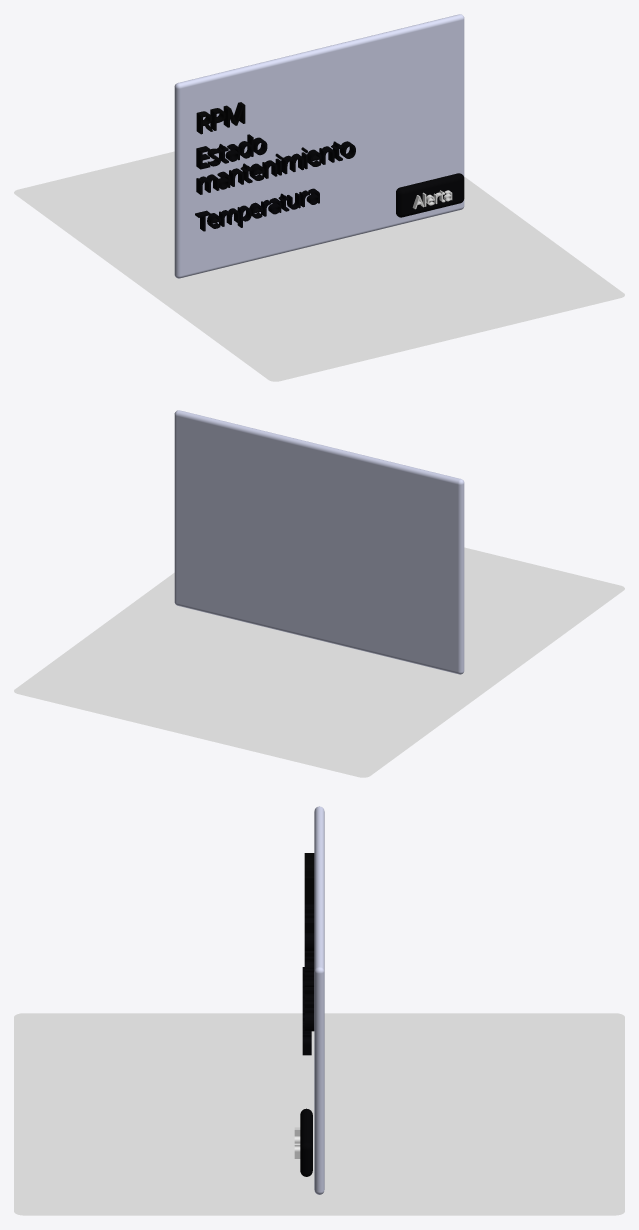
Rendered from Project_Name.glb.
The picture shows the model from 3 angles, top to bottom: view 1: azimuth 30°, elevation 25°; view 2: azimuth 150°, elevation 25°; view 3: azimuth 270°, elevation 25°; orthographic projection. The views are drawn at different scales.
Parts seen in each view (by area): view 1: Plane, Box, Box 1; view 2: Plane, Box; view 3: Plane, Box, Box 1.
Part boxes in pixels (x1=…): Plane: x1=14, y1=151, x2=624, y2=381; Box: x1=174, y1=14, x2=464, y2=278; Box 1: x1=396, y1=173, x2=464, y2=217; Plane: x1=14, y1=547, x2=624, y2=777; Box: x1=174, y1=410, x2=464, y2=674; Plane: x1=14, y1=1013, x2=624, y2=1215; Box: x1=314, y1=806, x2=324, y2=1194; Box 1: x1=300, y1=1108, x2=312, y2=1176.
Size of the model in its own units: 0.1908 by 0.1 by 0.2435.
